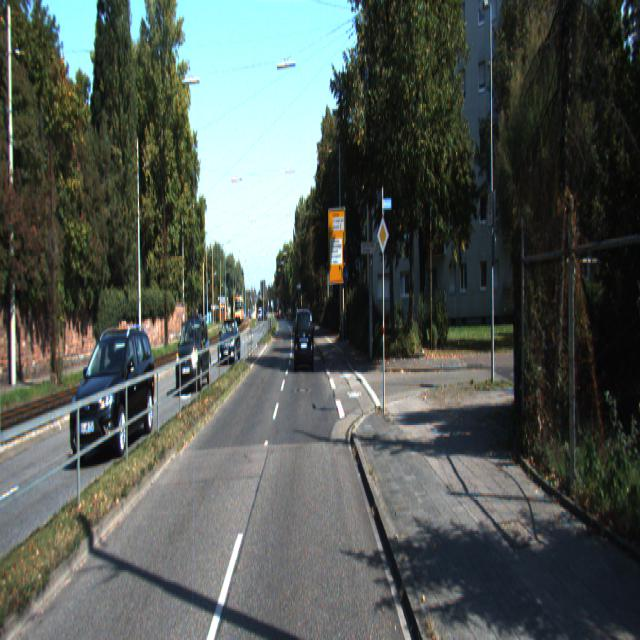Car: (71, 328, 156, 472), (176, 314, 211, 394), (295, 306, 315, 373), (218, 321, 241, 368)
